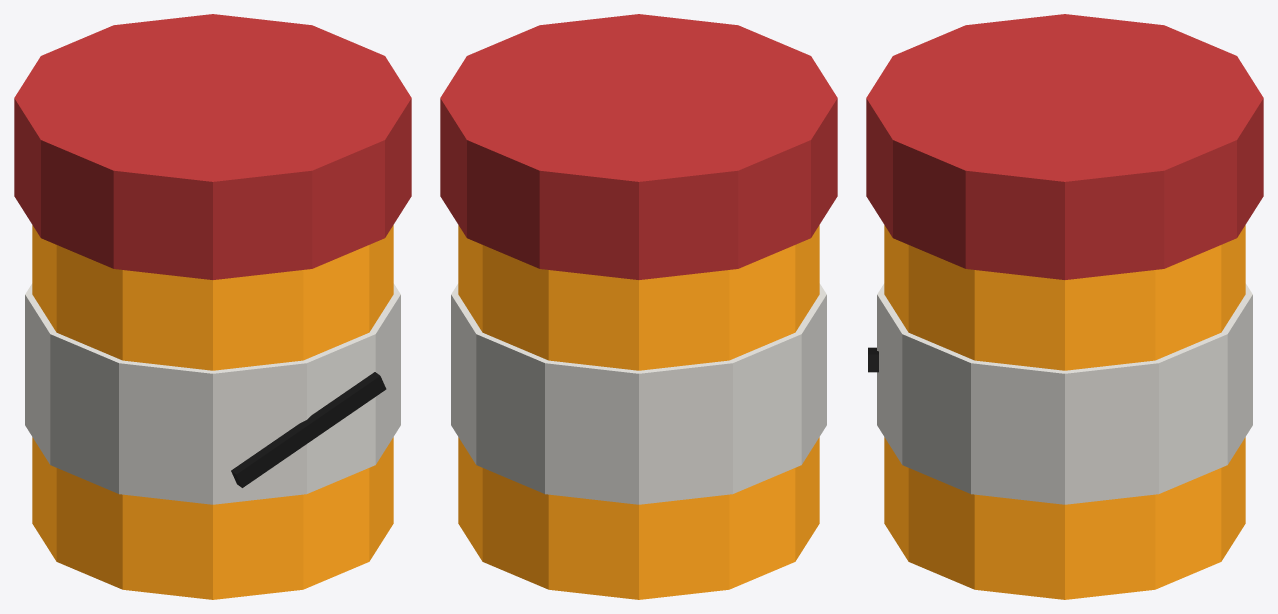
Rendered from honey_jar.glb.
3 views of the same model, side by side, from view 1: azimuth 30°, elevation 25°; view 2: azimuth 150°, elevation 25°; view 3: azimuth 270°, elevation 25° (orthographic).
Visible parts, largest first — view 1: lid_honey_lid, honey_honey_gold, label_honey_label, cross_honey_ink; view 2: lid_honey_lid, honey_honey_gold, label_honey_label; view 3: lid_honey_lid, honey_honey_gold, label_honey_label.
Boxes of the visible parts, left/top/right/bottom form: lid_honey_lid: left=14, top=14, right=411, bottom=279; honey_honey_gold: left=32, top=225, right=393, bottom=599; label_honey_label: left=25, top=283, right=400, bottom=504; cross_honey_ink: left=231, top=372, right=386, bottom=487; lid_honey_lid: left=440, top=14, right=837, bottom=279; honey_honey_gold: left=458, top=225, right=819, bottom=599; label_honey_label: left=451, top=283, right=826, bottom=504; lid_honey_lid: left=866, top=14, right=1263, bottom=279; honey_honey_gold: left=884, top=225, right=1245, bottom=599; label_honey_label: left=877, top=283, right=1252, bottom=504.
Bounding box in the file's own units: 0.11 × 0.13 × 0.11.
